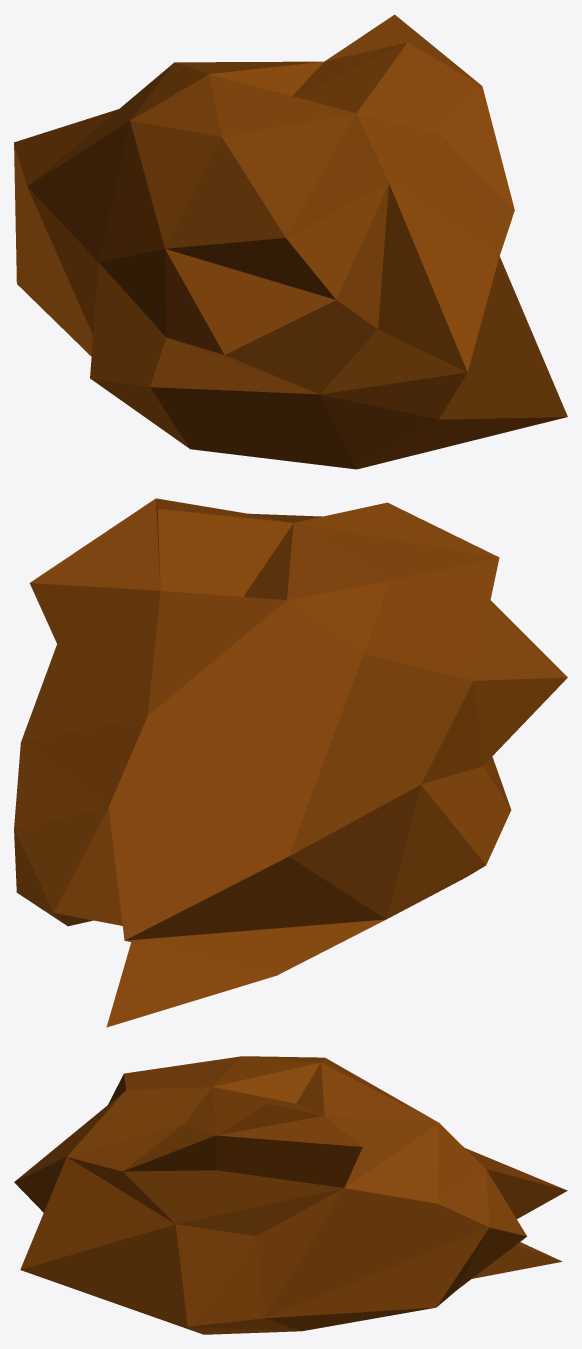
The model's file is Roca 11.fbx.
The picture shows the model from 3 angles, top to bottom: view 1: azimuth 30°, elevation 25°; view 2: azimuth 150°, elevation 25°; view 3: azimuth 270°, elevation 25°; orthographic projection. The views are drawn at different scales.
Visible parts, largest first — view 1: ROCA 11; view 2: ROCA 11; view 3: ROCA 11.
Part boxes in pixels (x1=…): ROCA 11: x1=14, y1=14, x2=567, y2=469; ROCA 11: x1=14, y1=498, x2=567, y2=1027; ROCA 11: x1=14, y1=1056, x2=567, y2=1334.
Size of the model in its own units: 165 by 123 by 275.
